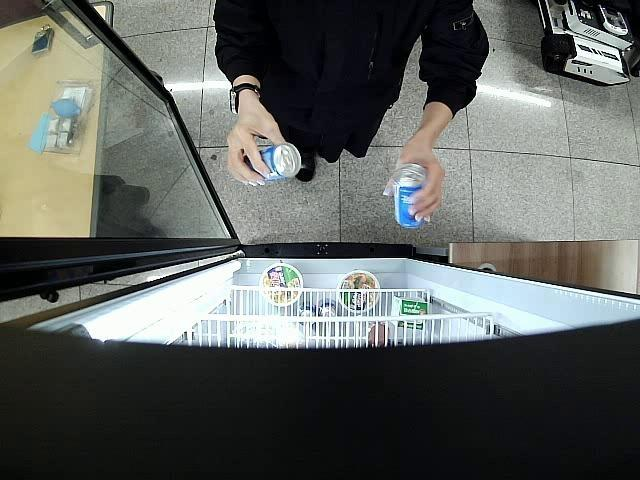15_letsbe: (393, 161, 434, 228), (240, 142, 302, 184)
